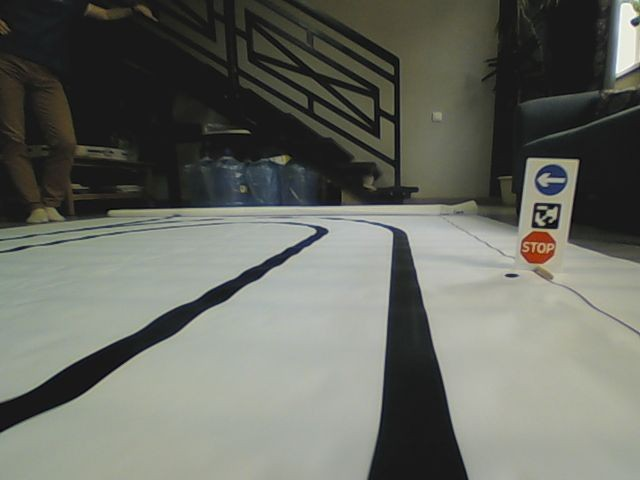Stop: (519, 231, 557, 264)
